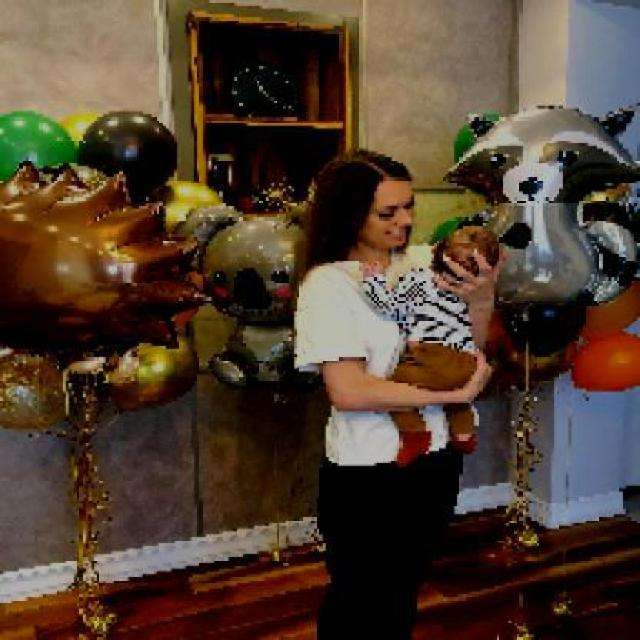child: (360, 224, 500, 467)
